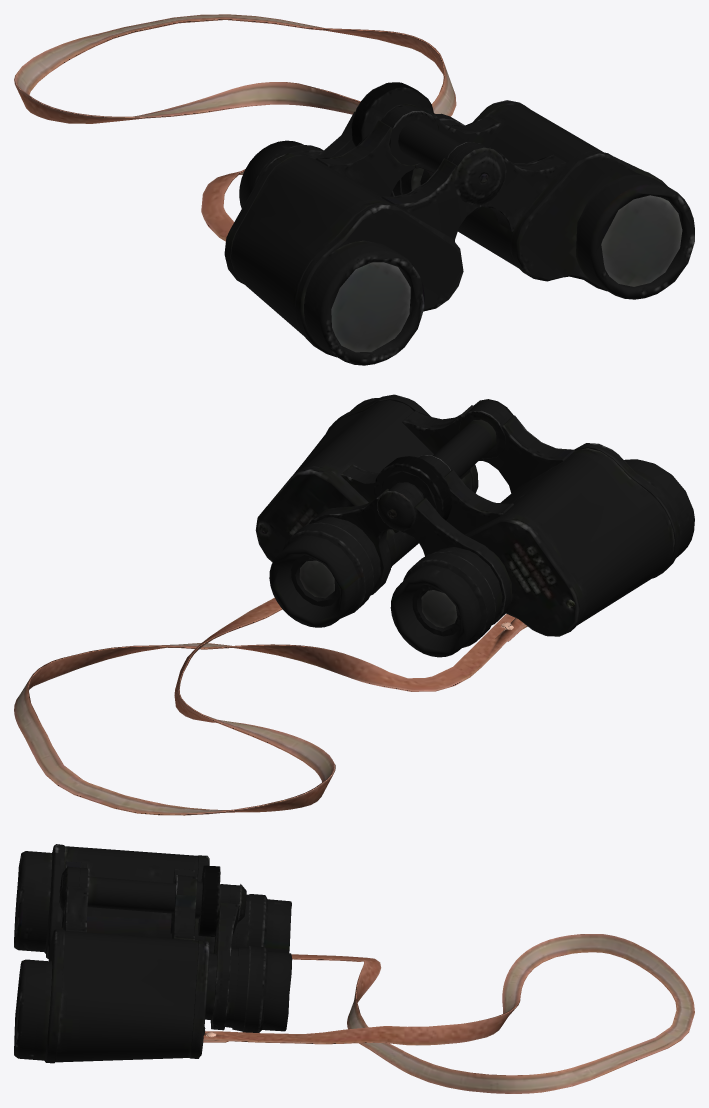
Rendered from binoculars.glb.
3 views of the same model, one above another, from view 1: azimuth 30°, elevation 25°; view 2: azimuth 150°, elevation 25°; view 3: azimuth 270°, elevation 25° (orthographic). The views are drawn at different scales.
Parts seen in each view (by area): view 1: binoculars_left, binoculars_strap; view 2: binoculars_left, binoculars_strap; view 3: binoculars_left, binoculars_strap.
Part boxes in pixels (left/top/right/bottom): binoculars_left: left=224, top=82, right=694, bottom=365; binoculars_strap: left=14, top=14, right=456, bottom=241; binoculars_left: left=255, top=394, right=694, bottom=657; binoculars_strap: left=14, top=597, right=527, bottom=815; binoculars_left: left=14, top=844, right=292, bottom=1063; binoculars_strap: left=203, top=934, right=694, bottom=1093.
Bounding box in the file's own units: 0.1669 × 0.066 × 0.2877.
Materials: 2 (2 with a texture image).
